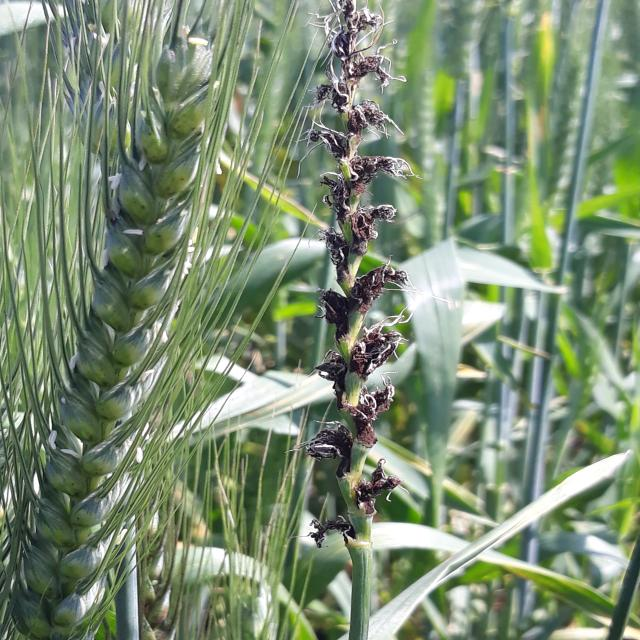loose_charred: (248, 5, 444, 583)
